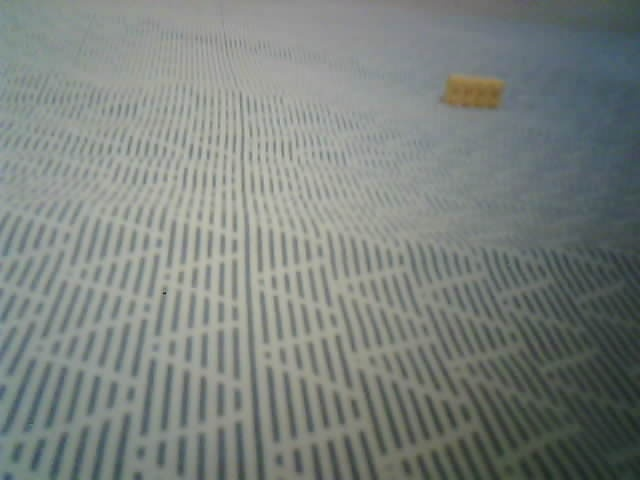lego: (443, 72, 506, 111)
